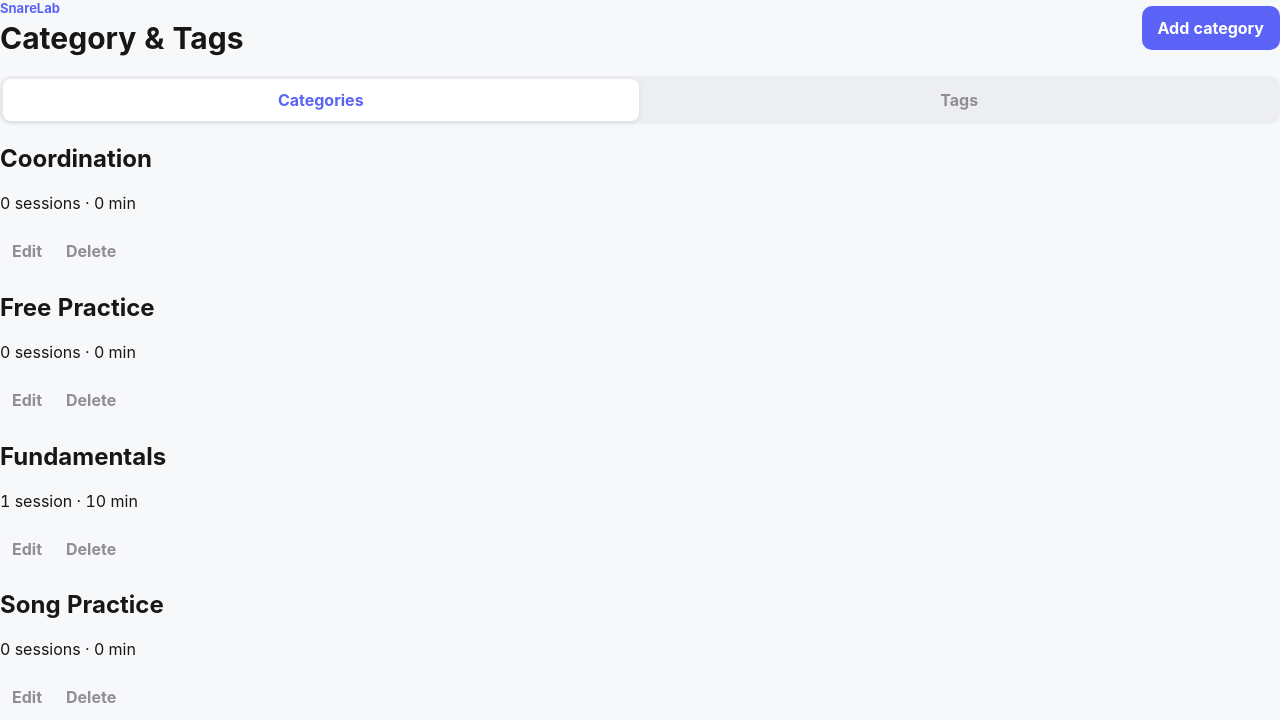
Scenario: CategoryPage › creates and edits a tag
Click the tab "Tags": [959, 100] box [642, 79, 1277, 121]
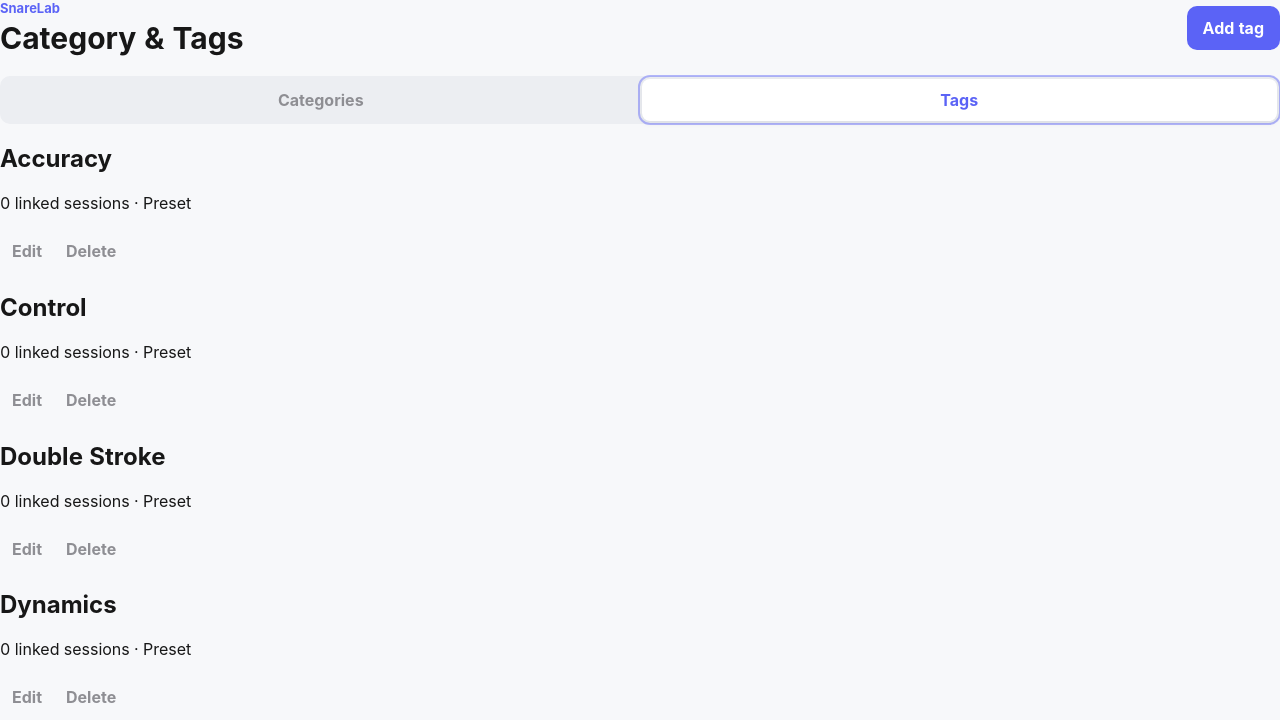
Click the button "Add tag": [1233, 28] box [1187, 6, 1279, 50]
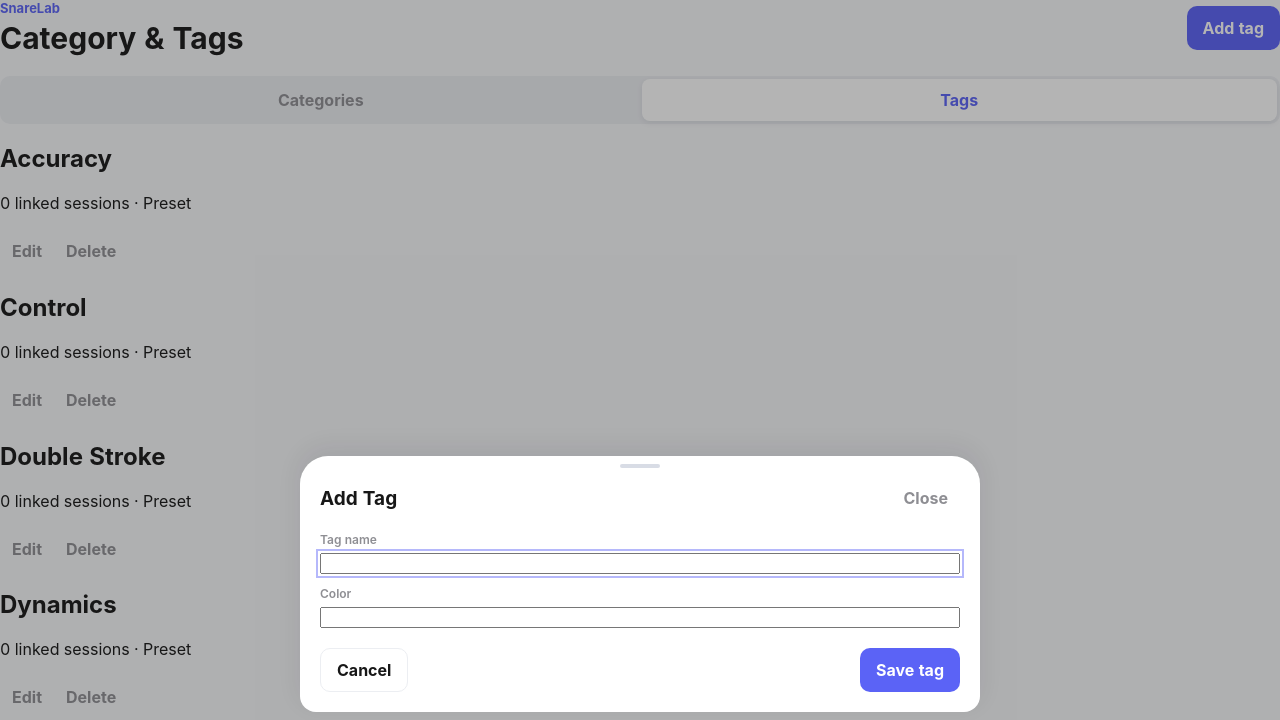
In the field labelled "Tag name": [640, 564] box [320, 553, 960, 574], type "Accent"
Click the button "Save tag": [910, 670] box [860, 648, 960, 692]
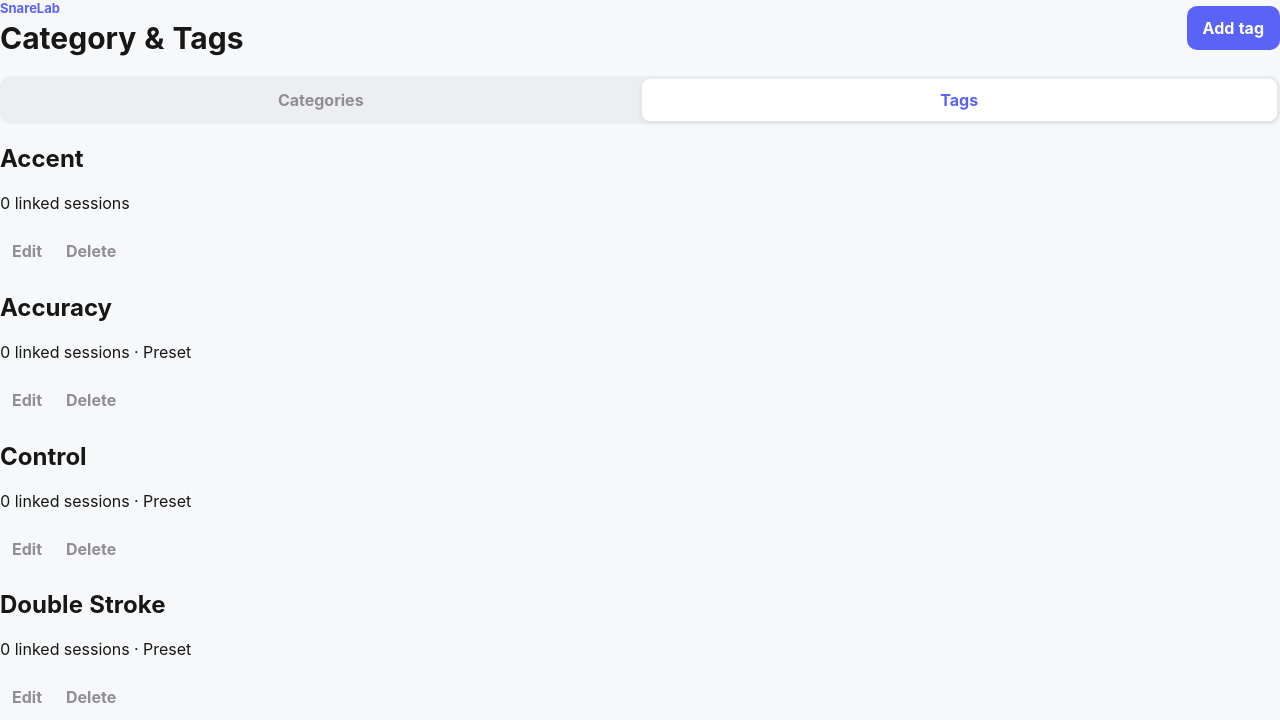
Check: the heading "Accent" is shown, box [0, 144, 84, 173]
Click the button with aria-label "Edit Accent": [27, 251] box [0, 229, 54, 273]
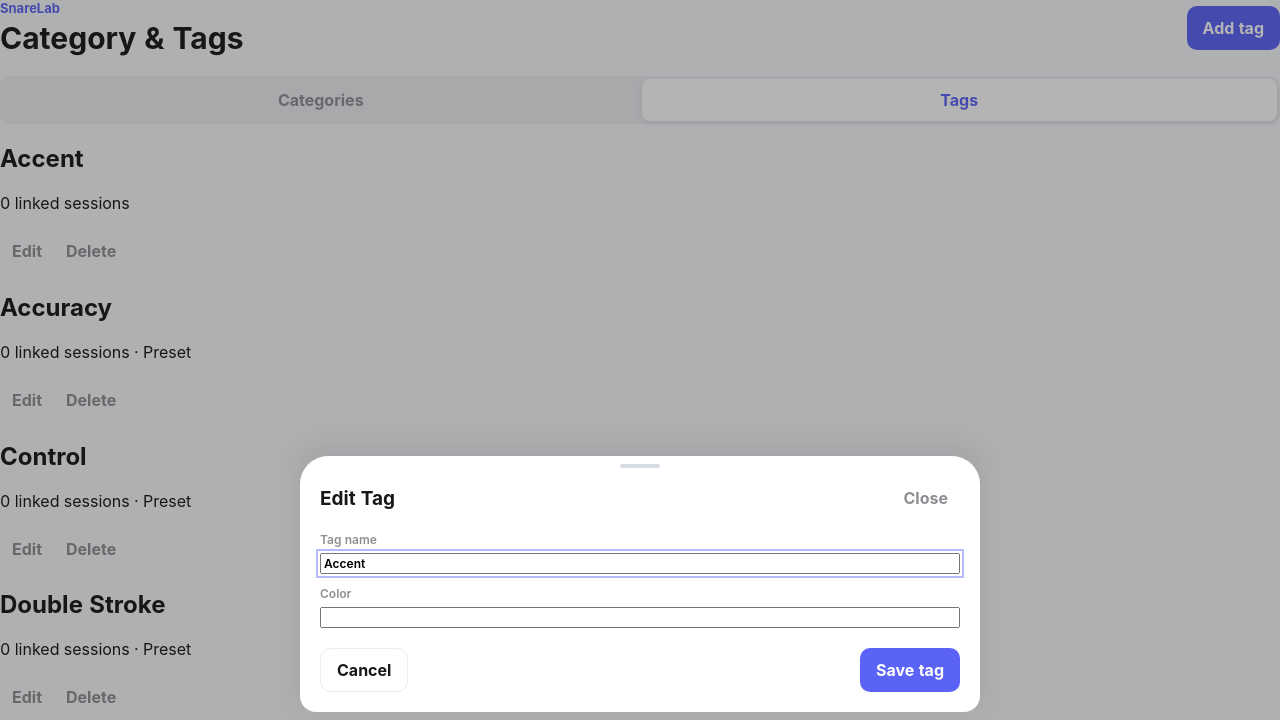
Replace the text in the field labelled "Tag name" with "Accents": [640, 564] box [320, 553, 960, 574]
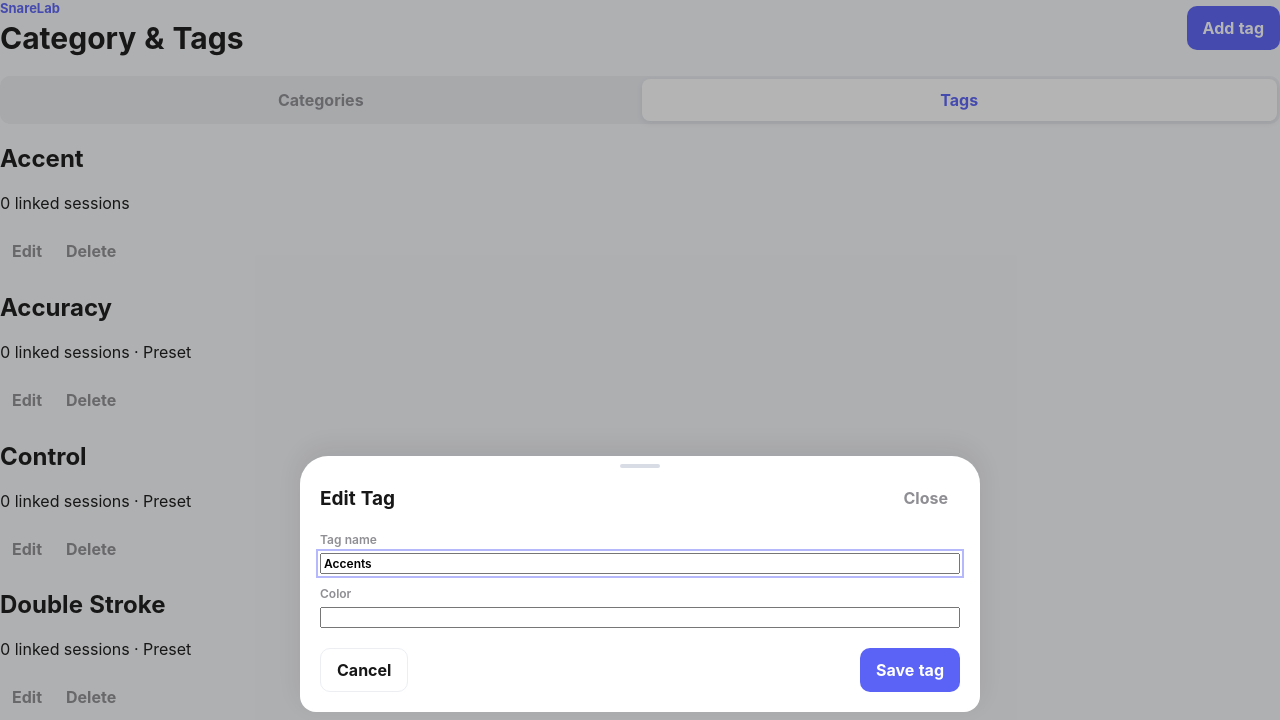
Click the button "Save tag": [910, 670] box [860, 648, 960, 692]
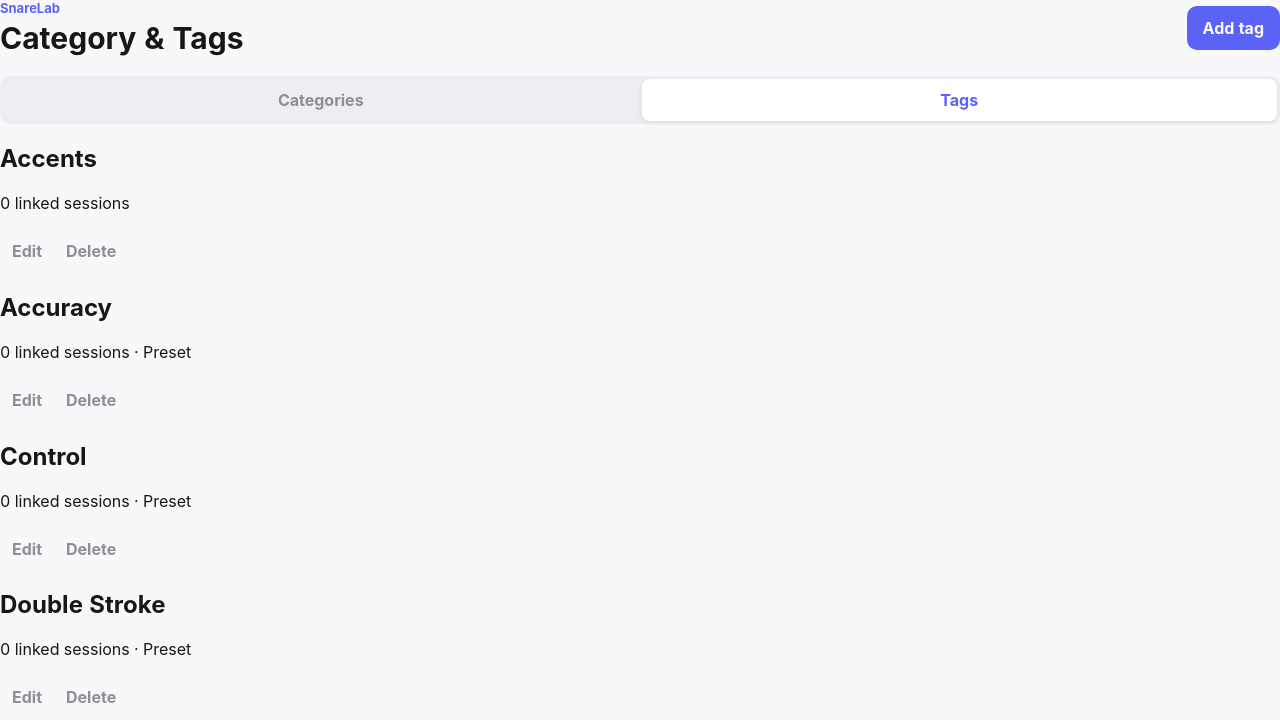
Check: the heading "Accents" is shown, box [0, 144, 97, 173]
